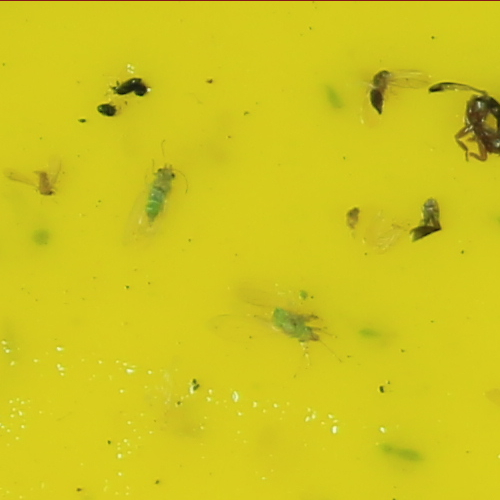Glycaspis: (143, 164, 179, 222), (275, 306, 320, 347)
Platyobria: (36, 172, 57, 200)
